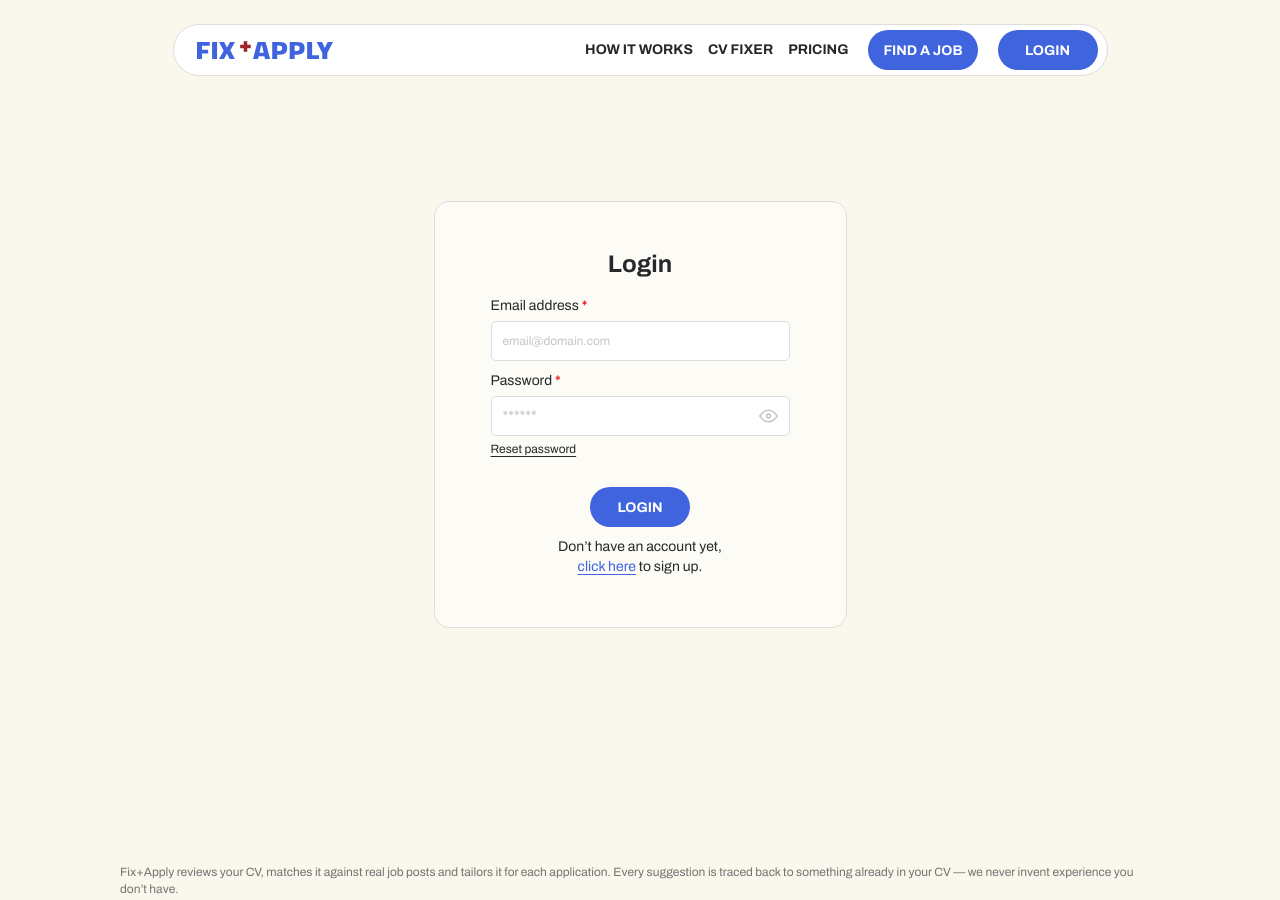
Scenario: LoginPage › shows validation errors and does not submit when fields are empty
The width and height of the screenshot is (1280, 900).
Click the button "Login" at (640, 507), box left=590, top=487, right=690, bottom=527
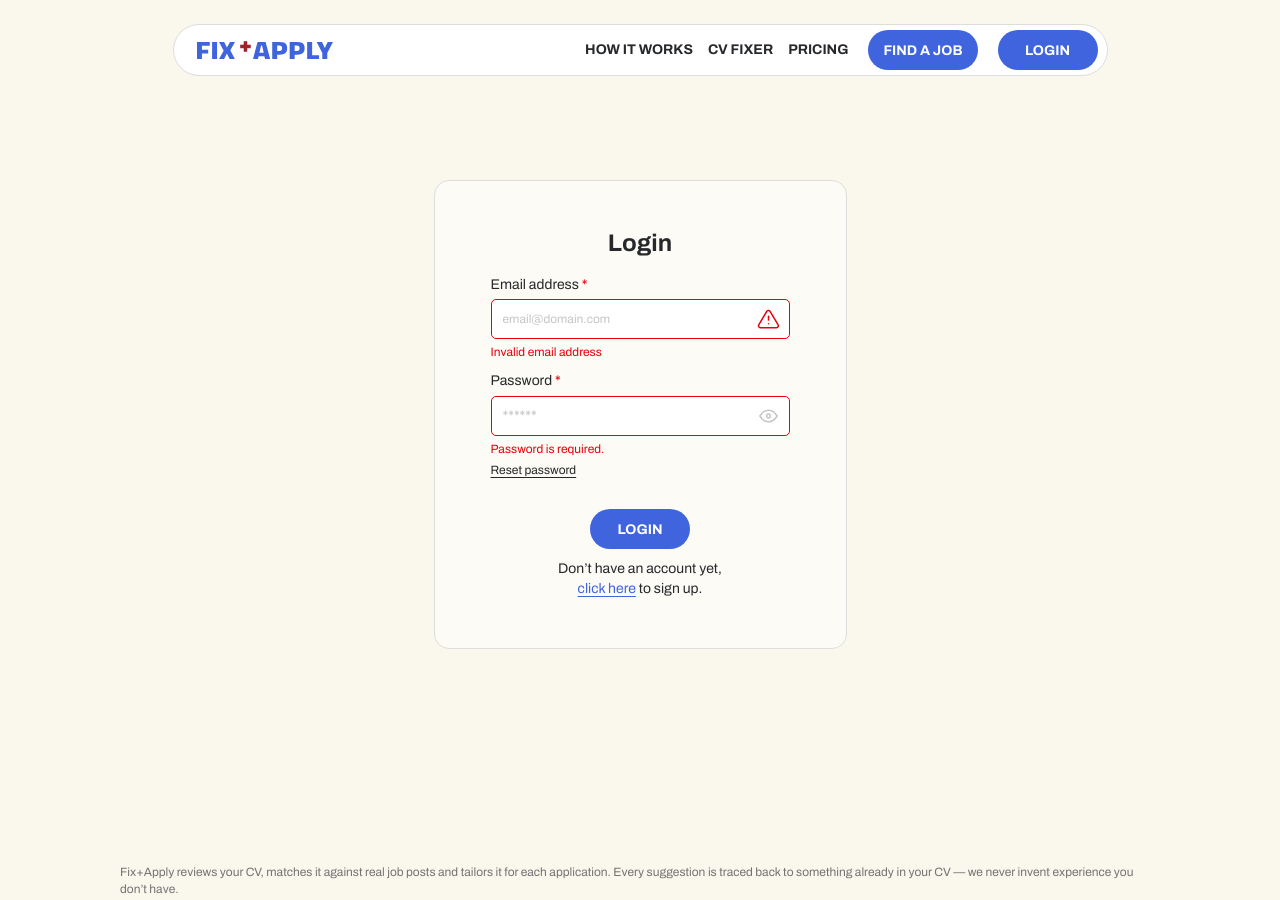
Now the text "Invalid email address" is shown, box left=490, top=345, right=602, bottom=359
